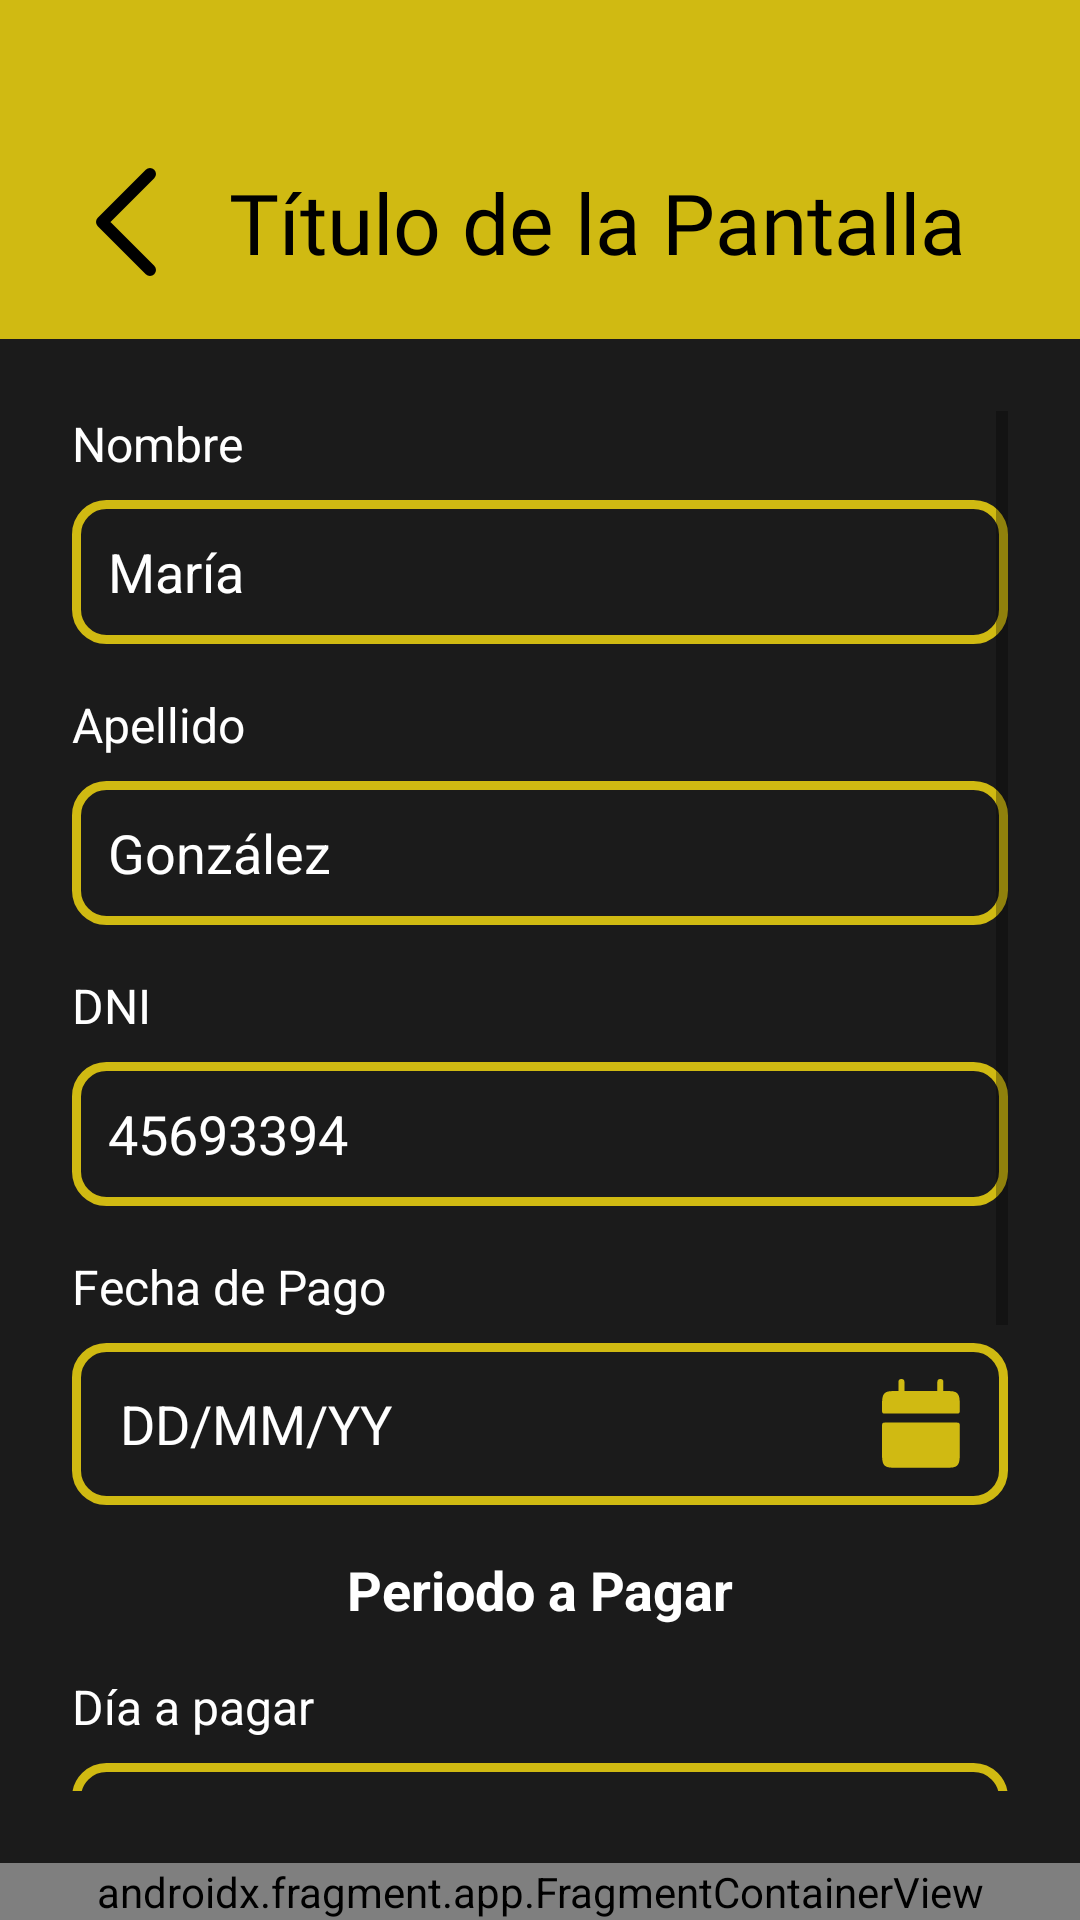

Where to tap for icons on this 1080 x 1920 app screen, as (x=x, y=y):
atras: (x=126, y=222)
